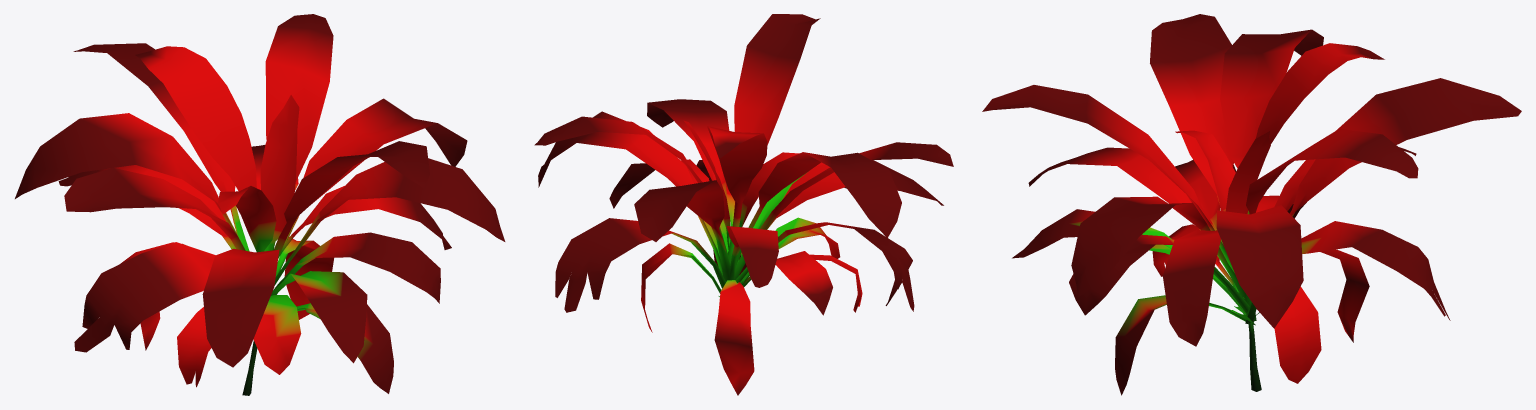
The model's file is Var7_LOD1.fbx.
The picture shows the model from 3 angles, left to right: view 1: azimuth 30°, elevation 25°; view 2: azimuth 150°, elevation 25°; view 3: azimuth 270°, elevation 25°; orthographic projection. The views are drawn at different scales.
Visible parts, largest first — view 1: _8250_Var7_LOD1; view 2: _8250_Var7_LOD1; view 3: _8250_Var7_LOD1.
Boxes of the visible parts, x1,y1,x2,y2 form: _8250_Var7_LOD1: [15, 14, 505, 395]; _8250_Var7_LOD1: [534, 14, 953, 395]; _8250_Var7_LOD1: [982, 14, 1521, 395].
Bounding box in the file's own units: 41.47 × 29 × 44.28.
